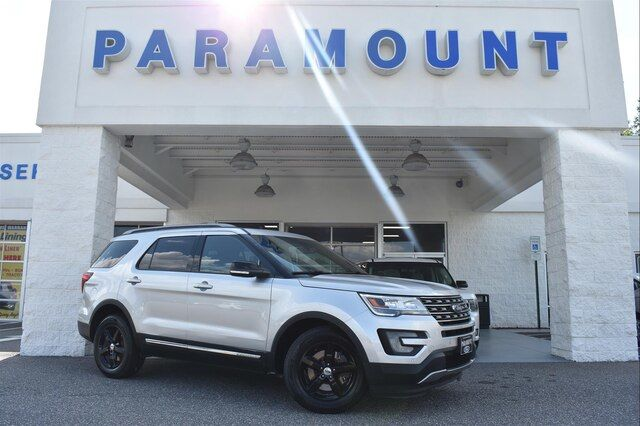Ford Explorer: (74, 220, 482, 417)
